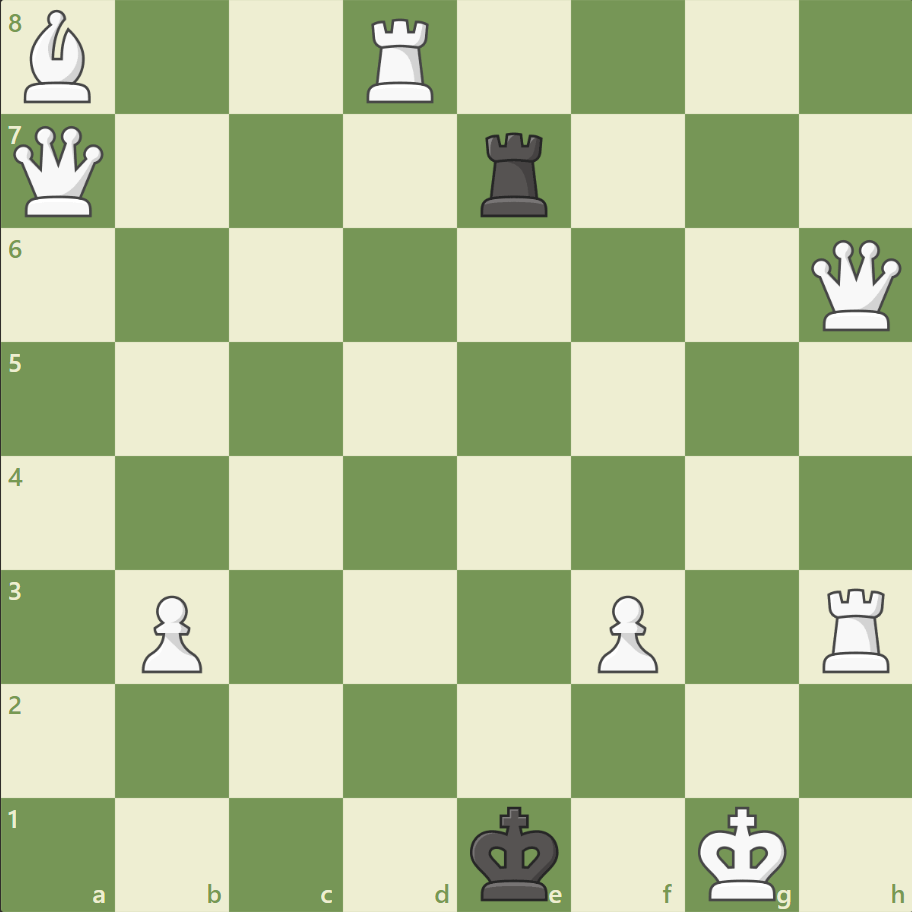B: (17, 6, 101, 109)
K: (692, 798, 792, 906)
P: (133, 586, 208, 677), (588, 586, 662, 677)
Q: (10, 122, 109, 222), (805, 236, 904, 335)
R: (814, 579, 897, 676), (360, 12, 442, 109)
k: (465, 798, 565, 906)
r: (473, 125, 556, 222)
